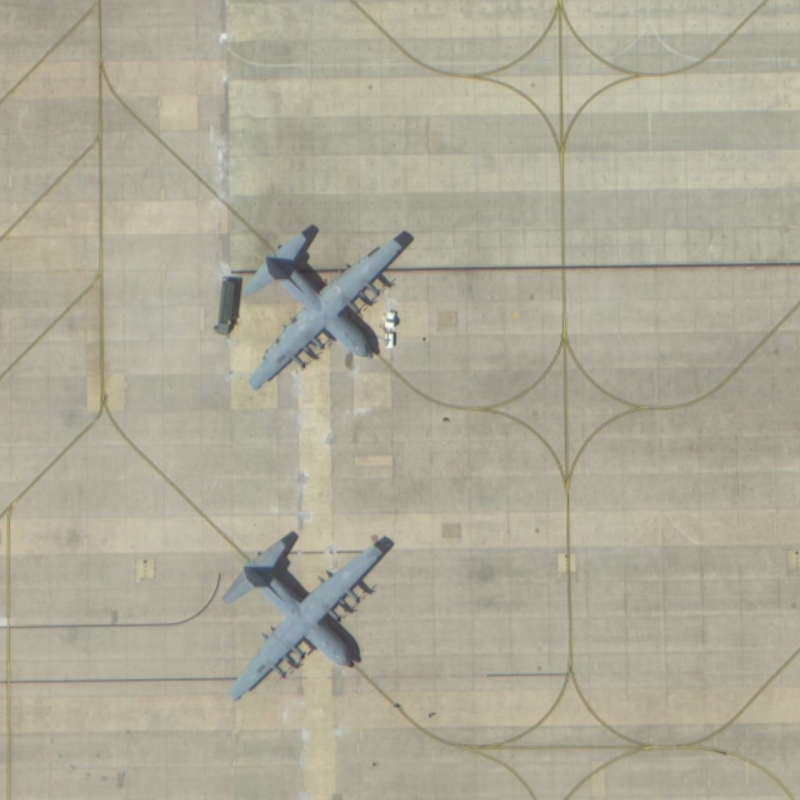A2: (215, 522, 395, 709), (240, 222, 420, 391)
